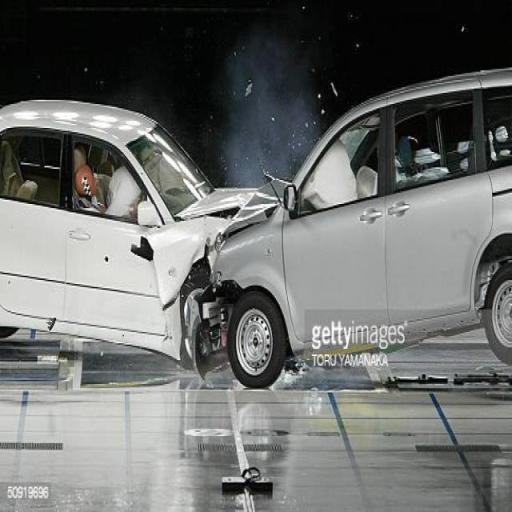小汽车撞小汽车: (0, 68, 512, 381)
